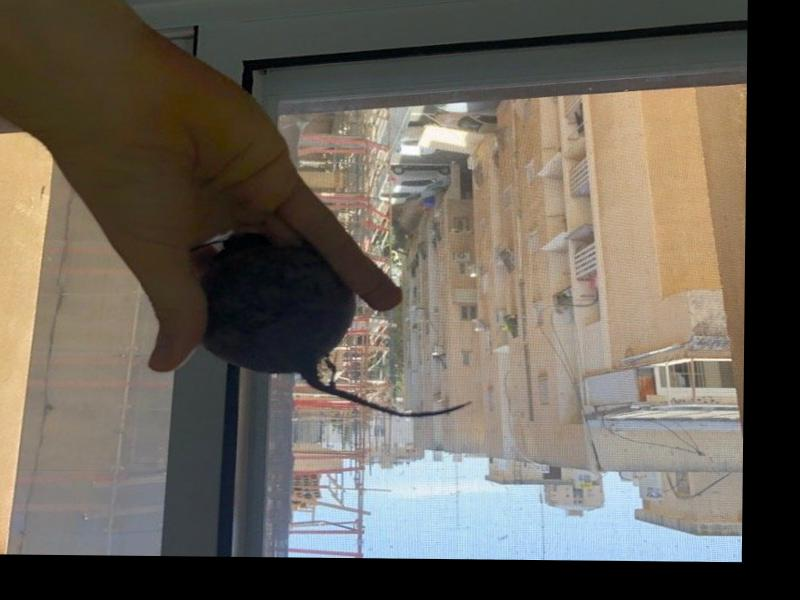Beet: (202, 233, 474, 420)
